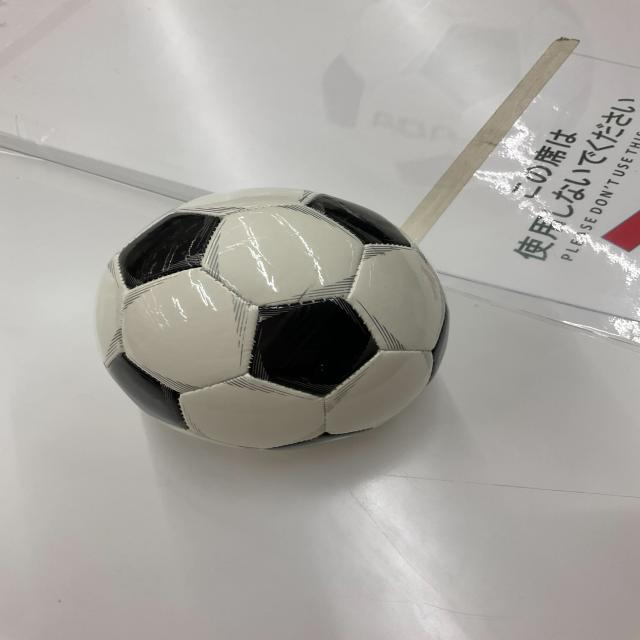ball: (96, 182, 447, 448)
